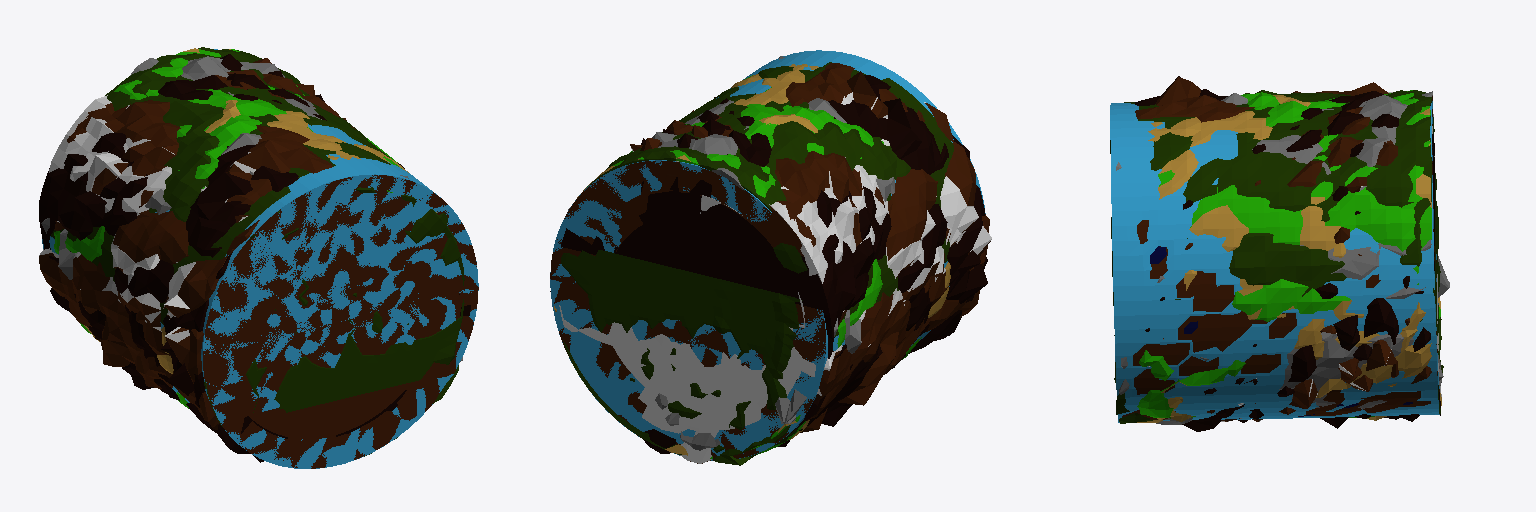
File: world.obj
3 renders of one model, left to right at view 1: azimuth 30°, elevation 25°; view 2: azimuth 150°, elevation 25°; view 3: azimuth 270°, elevation 25°, orthographic.
Visible parts, largest first — view 1: brown, green, blue, Dbrown, snow, gray, sand; view 2: green, brown, Dbrown, snow, blue, gray, sand; view 3: blue, green, brown, sand, Dbrown, gray.
Boxes of the visible parts, box(x1,y1,x2,y2) form: brown: box(39, 58, 478, 468); green: box(51, 47, 464, 456); blue: box(42, 49, 478, 468); Dbrown: box(39, 54, 470, 462); snow: box(39, 95, 259, 342); gray: box(41, 56, 462, 361); sand: box(84, 48, 436, 373); green: box(561, 62, 953, 465); brown: box(550, 63, 990, 463); Dbrown: box(550, 75, 987, 453); snow: box(559, 92, 991, 463); blue: box(550, 50, 985, 460); gray: box(568, 56, 894, 450); sand: box(554, 64, 950, 455); blue: box(1110, 101, 1439, 422); green: box(1110, 90, 1443, 423); brown: box(1122, 77, 1439, 421); sand: box(1137, 95, 1441, 422); Dbrown: box(1135, 76, 1440, 431); gray: box(1116, 91, 1449, 424).
Size of the model in its own units: 4.58 by 4.39 by 4.28.